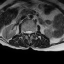CCS_normal: (28, 28, 30, 38)
LFS_stenosis: (32, 28, 34, 34)
LLS_normal: (30, 28, 32, 36)
RFS_normal: (24, 28, 26, 35)
RLS_normal: (26, 28, 28, 36)
